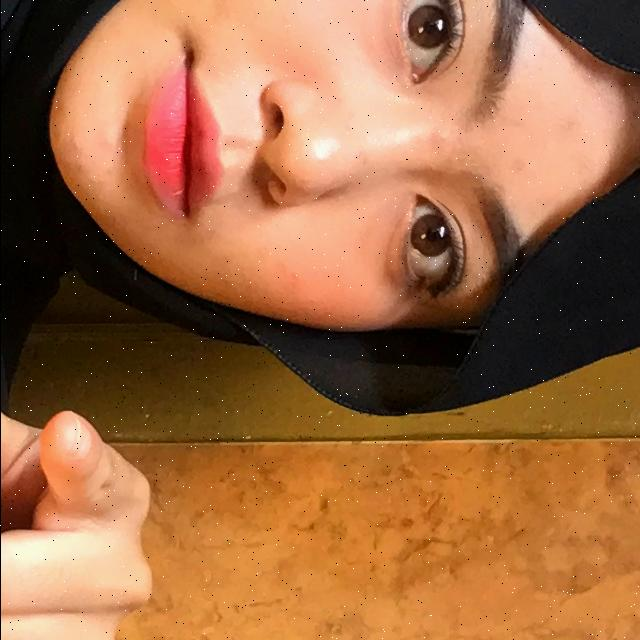kamu: (0, 280, 194, 640)
